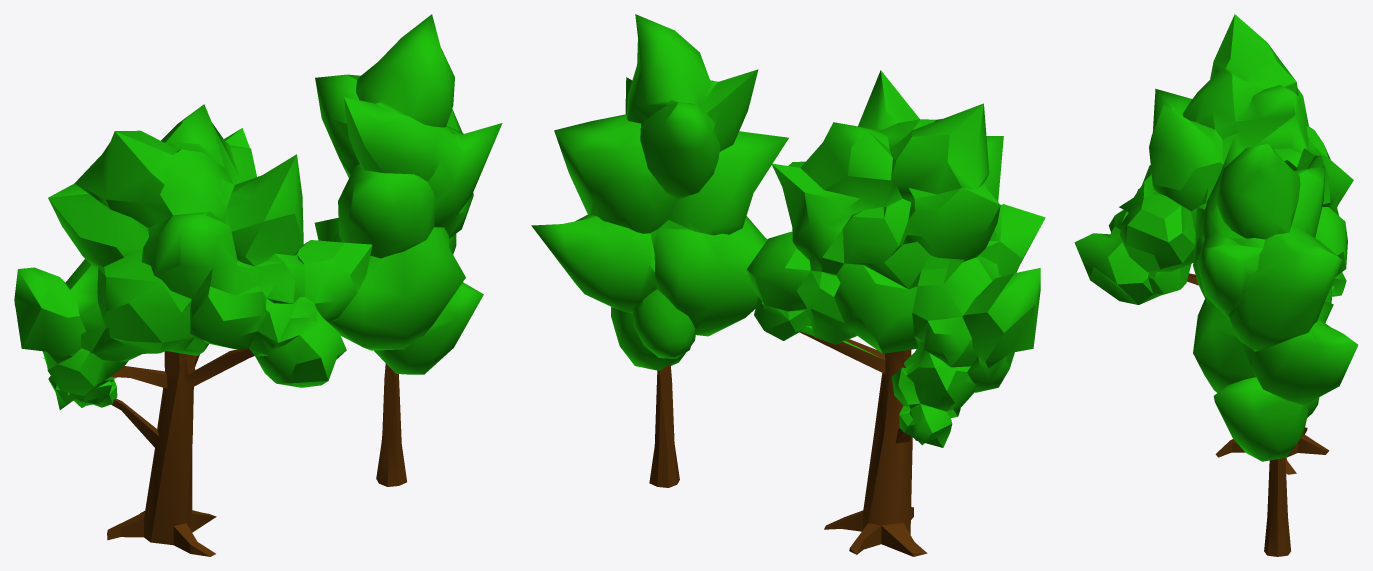
File: DEREVOZLO.fbx
3 renders of one model, left to right at view 1: azimuth 30°, elevation 25°; view 2: azimuth 150°, elevation 25°; view 3: azimuth 270°, elevation 25°, orthographic. The views are drawn at different scales.
Visible parts, largest first — view 1: _6_tree, _7_tree; view 2: _6_tree, _7_tree; view 3: _7_tree, _6_tree.
Boxes of the visible parts, x1,y1,x2,y2 form: _6_tree: (14, 104, 372, 556); _7_tree: (314, 14, 502, 486); _6_tree: (747, 70, 1045, 556); _7_tree: (531, 14, 788, 487); _7_tree: (1193, 136, 1358, 556); _6_tree: (1074, 14, 1353, 474).
Size of the model in its own units: 307 by 289 by 176.
